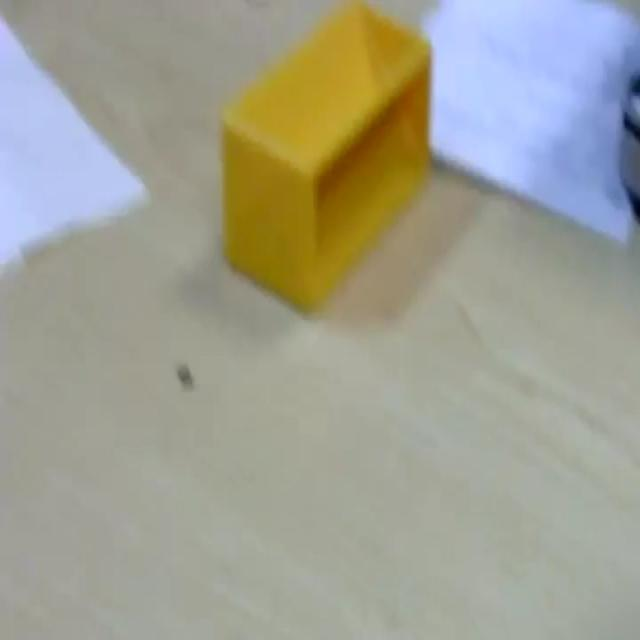yellow_block: (219, 2, 433, 314)
